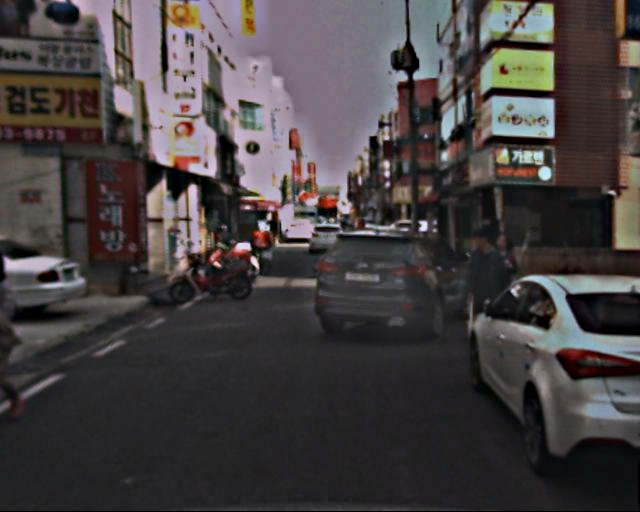person: (1, 238, 43, 408), (465, 226, 508, 352), (486, 229, 524, 337)
